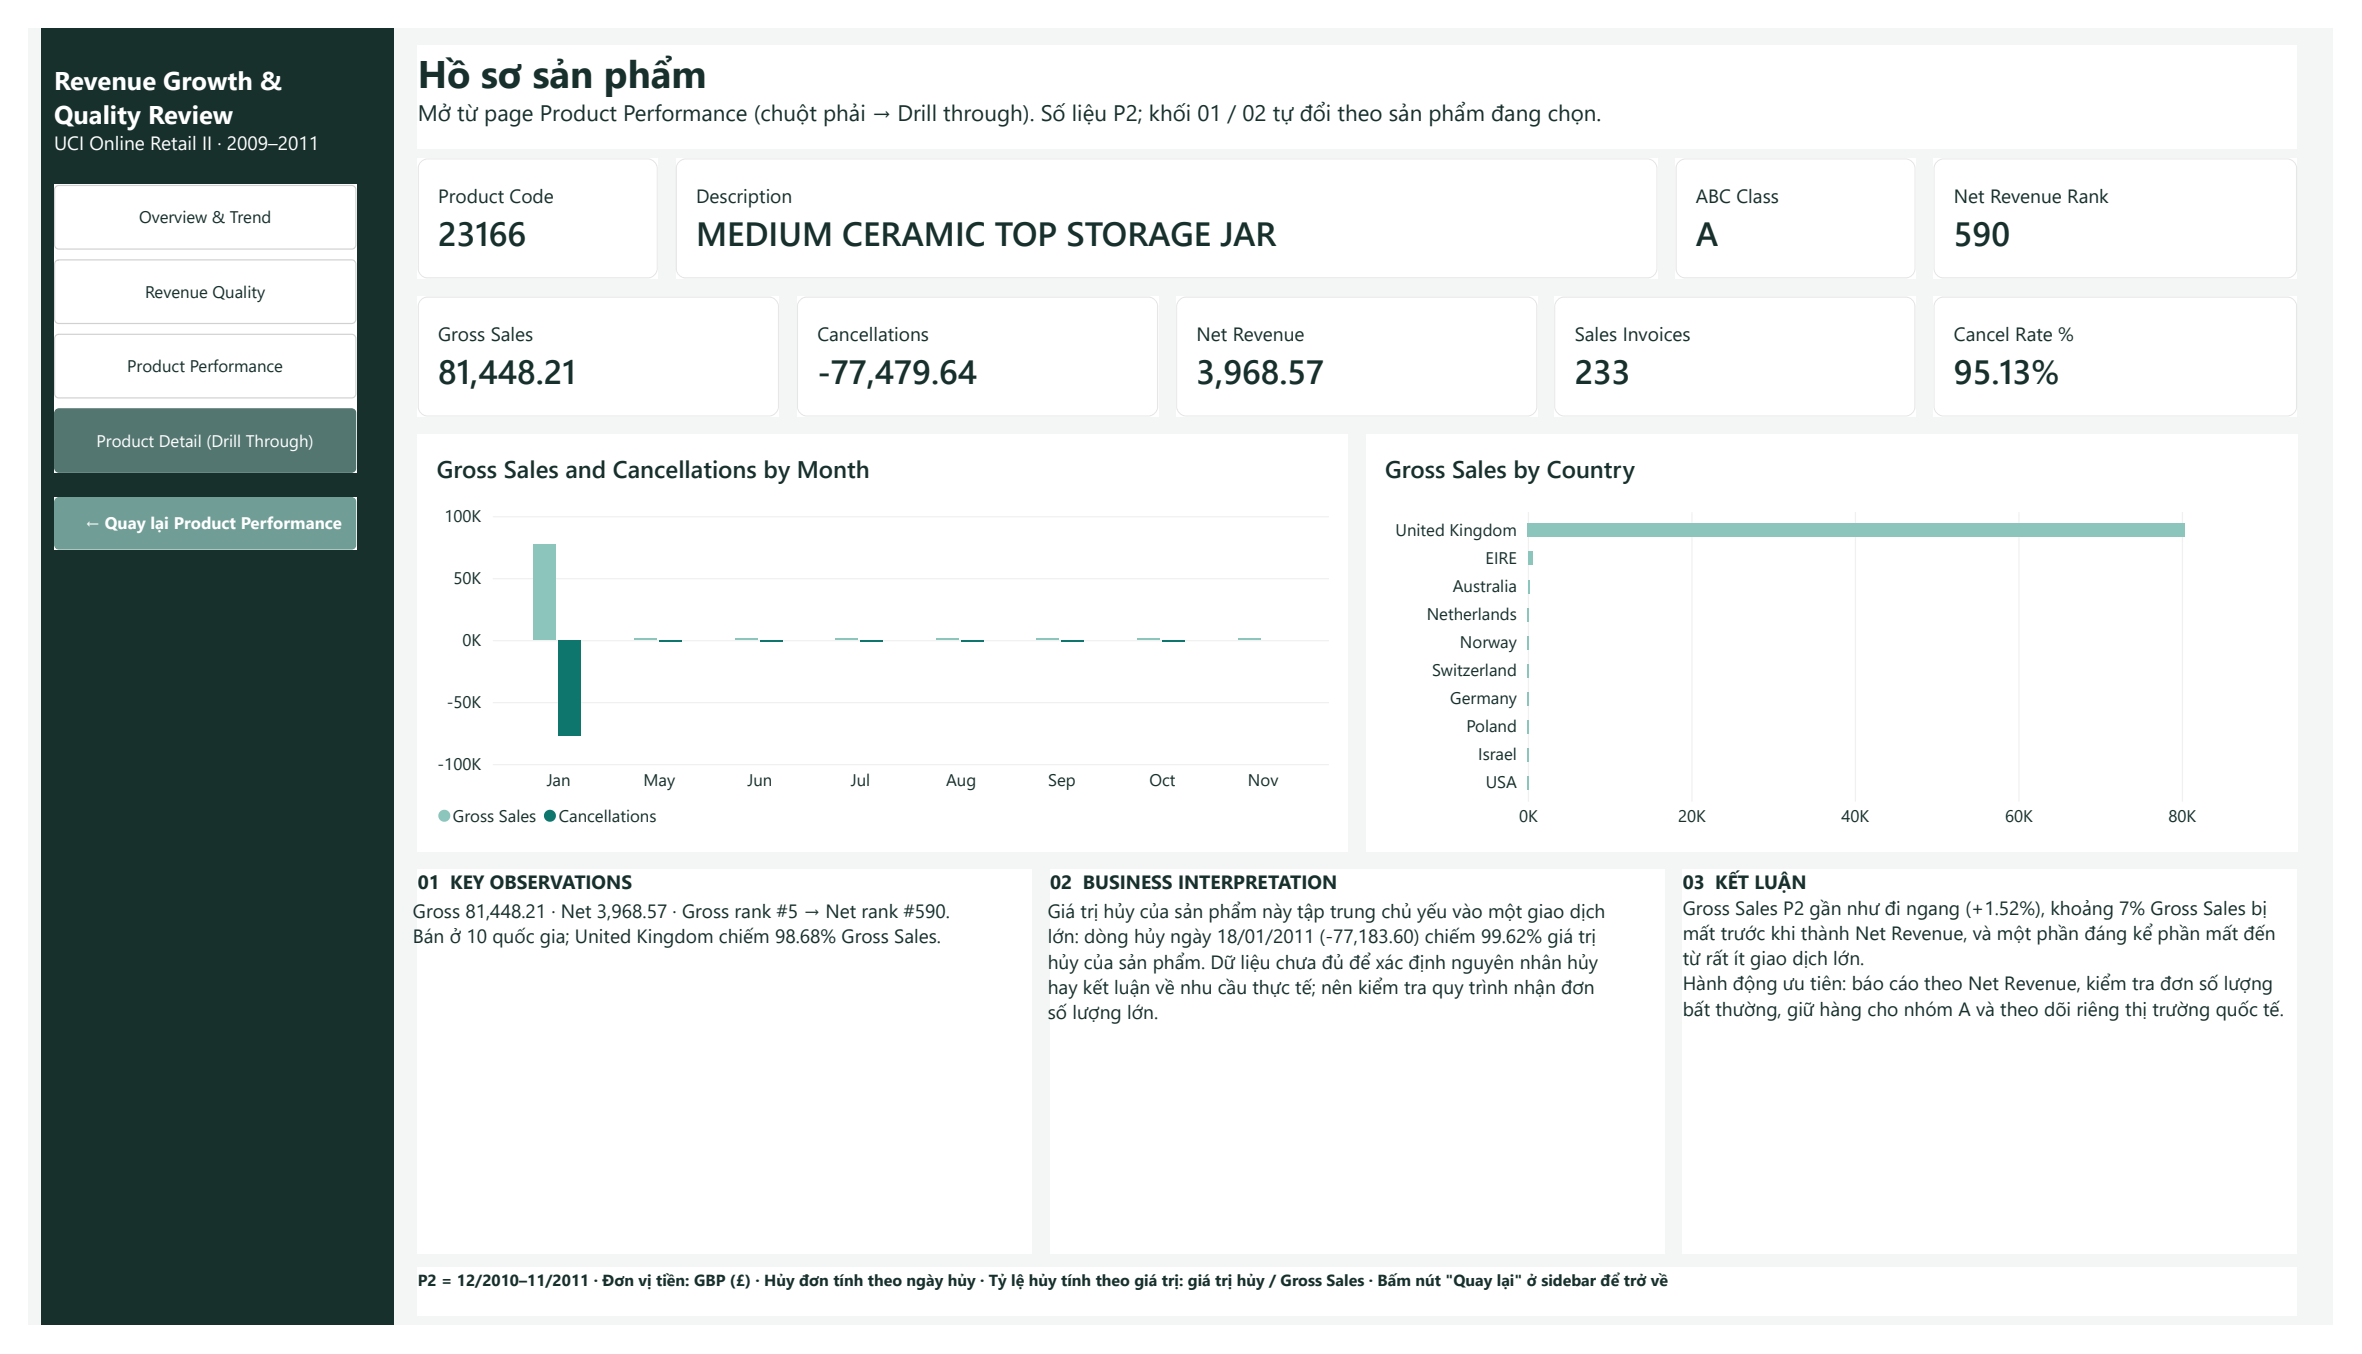

This screenshot's page, from the dashboard's own definition file:
{"tool":"powerbi","page":{"name":"Product Detail (Drill Through)","canvas":[1920,1080],"ordinal":3},"visuals":[{"type":"shape","box":[10,0,294,1080],"z":0},{"type":"actionButton","box":[21,390,252,44],"z":1000},{"type":"cardVisual","fields":{"Data":["Min(core dim_product.description)"]},"box":[539,108,818,100],"z":2000},{"type":"cardVisual","fields":{"Data":["_Measures.Gross Sales"]},"box":[324,223,301,100],"z":3000},{"type":"cardVisual","fields":{"Data":["_Measures.Cancellations"]},"box":[640,223,301,100],"z":4000},{"type":"cardVisual","fields":{"Data":["_Measures.Net Revenue"]},"box":[956,223,301,100],"z":5000},{"type":"cardVisual","fields":{"Data":["_Measures.Net Revenue Rank"]},"box":[1587,108,303,100],"z":6000},{"type":"cardVisual","fields":{"Data":["_Measures.Sales Invoices"]},"box":[1271,223,301,100],"z":7000},{"type":"cardVisual","fields":{"Data":["_Measures.Product Cancellation Rate %"]},"box":[1587,223,303,100],"z":8000},{"type":"clusteredColumnChart","title":"Gross Sales and Cancellations by Month","fields":{"Category":["core dim_date.month_name"],"Y":["_Measures.Gross Sales","_Measures.Cancellations"]},"box":[324,338,775,348],"z":9000},{"type":"clusteredBarChart","title":"Gross Sales by Country","fields":{"Category":["core fact_invoice_line.country"],"Y":["_Measures.Gross Sales"]},"box":[1114,338,776,348],"z":10000},{"type":"textbox","box":[324,14,1566,86],"z":11000},{"type":"pageNavigator","box":[21,130,252,240],"z":12000},{"type":"textbox","box":[1378,700,512,320],"z":13000},{"type":"textbox","box":[324,1032,1566,40],"z":14000},{"type":"textbox","box":[21,28,252,80],"z":15000},{"type":"cardVisual","fields":{"Data":["Min(core dim_product.product_code)"]},"box":[324,108,200,100],"z":16000},{"type":"cardVisual","fields":{"Data":["Min(core dim_product.abc_class)"]},"box":[1372,108,200,100],"z":17000},{"type":"textbox","box":[324,700,512,320],"z":18000},{"type":"textbox","box":[851,700,512,320],"z":19000},{"type":"cardVisual","fields":{"Data":["_Measures.Product Insight Text"]},"box":[304,708,500,280],"z":20000},{"type":"cardVisual","fields":{"Data":["_Measures.Product Interpretation Text"]},"box":[833,708,500,280],"z":20001}]}

Visuals, with their boxes on the page's 1920x1080 design canvas (x1, y1, x2, y2). These are canvas units, not pixel positions in the 2362x1354 screenshot, which may show the page scaled, cropped or inside an application window:
shape: BBox(10, 0, 304, 1080)
actionButton: BBox(21, 390, 273, 434)
cardVisual - Min(core dim_product.description): BBox(539, 108, 1357, 208)
cardVisual - _Measures.Gross Sales: BBox(324, 223, 625, 323)
cardVisual - _Measures.Cancellations: BBox(640, 223, 941, 323)
cardVisual - _Measures.Net Revenue: BBox(956, 223, 1257, 323)
cardVisual - _Measures.Net Revenue Rank: BBox(1587, 108, 1890, 208)
cardVisual - _Measures.Sales Invoices: BBox(1271, 223, 1572, 323)
cardVisual - _Measures.Product Cancellation Rate %: BBox(1587, 223, 1890, 323)
"Gross Sales and Cancellations by Month" clusteredColumnChart: BBox(324, 338, 1099, 686)
"Gross Sales by Country" clusteredBarChart: BBox(1114, 338, 1890, 686)
textbox: BBox(324, 14, 1890, 100)
pageNavigator: BBox(21, 130, 273, 370)
textbox: BBox(1378, 700, 1890, 1020)
textbox: BBox(324, 1032, 1890, 1072)
textbox: BBox(21, 28, 273, 108)
cardVisual - Min(core dim_product.product_code): BBox(324, 108, 524, 208)
cardVisual - Min(core dim_product.abc_class): BBox(1372, 108, 1572, 208)
textbox: BBox(324, 700, 836, 1020)
textbox: BBox(851, 700, 1363, 1020)
cardVisual - _Measures.Product Insight Text: BBox(304, 708, 804, 988)
cardVisual - _Measures.Product Interpretation Text: BBox(833, 708, 1333, 988)
